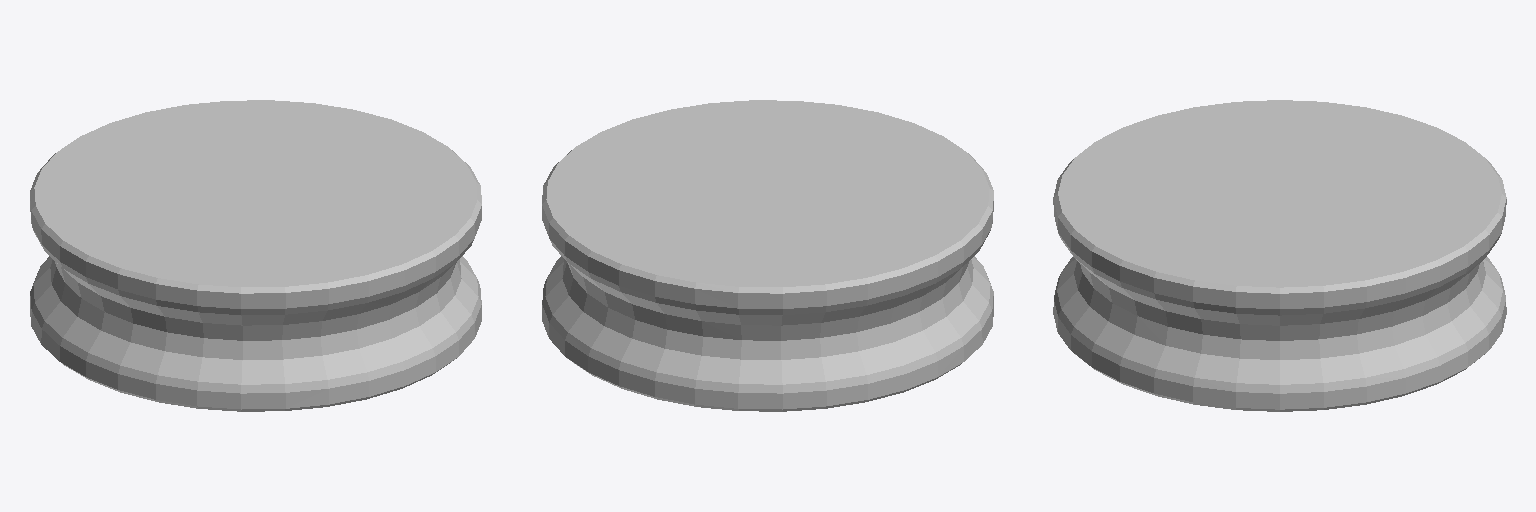
File: Umlenkrolle.obj
3 renders of one model, left to right at view 1: azimuth 30°, elevation 25°; view 2: azimuth 150°, elevation 25°; view 3: azimuth 270°, elevation 25°, orthographic.
Visible parts, largest first — view 1: Umlenkrolle_Cylinder.006; view 2: Umlenkrolle_Cylinder.006; view 3: Umlenkrolle_Cylinder.006.
Part boxes in pixels (bbox=[...]): Umlenkrolle_Cylinder.006: bbox=[30, 100, 481, 411]; Umlenkrolle_Cylinder.006: bbox=[542, 100, 993, 411]; Umlenkrolle_Cylinder.006: bbox=[1053, 100, 1506, 411].
Bounding box in the file's own units: 0.0289 × 0.0088 × 0.0289.